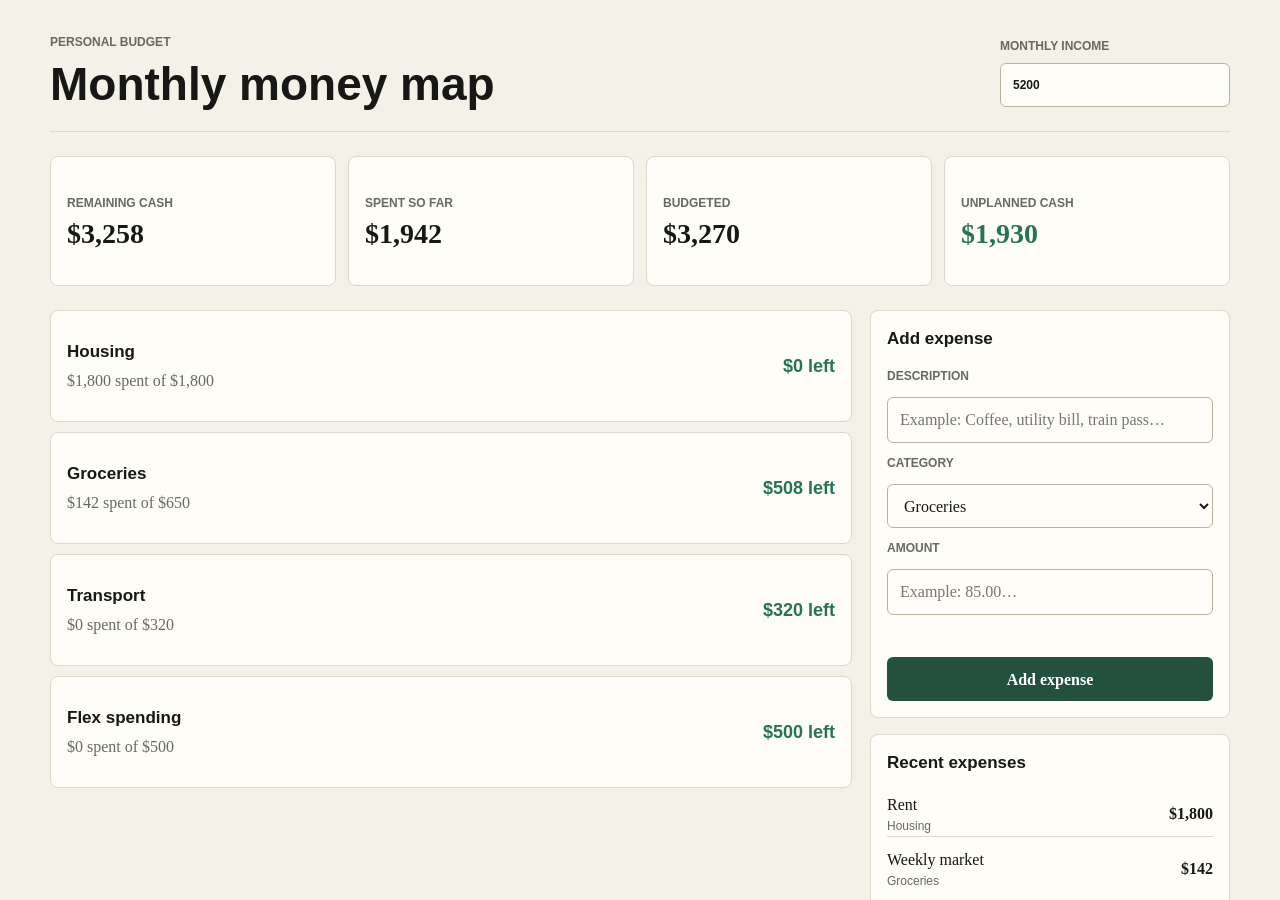
budget tracker › shows an over-budget category
Type "Dinner party stock-up" into the field labelled "Description" at (1050, 420), box [887,397,1213,443]
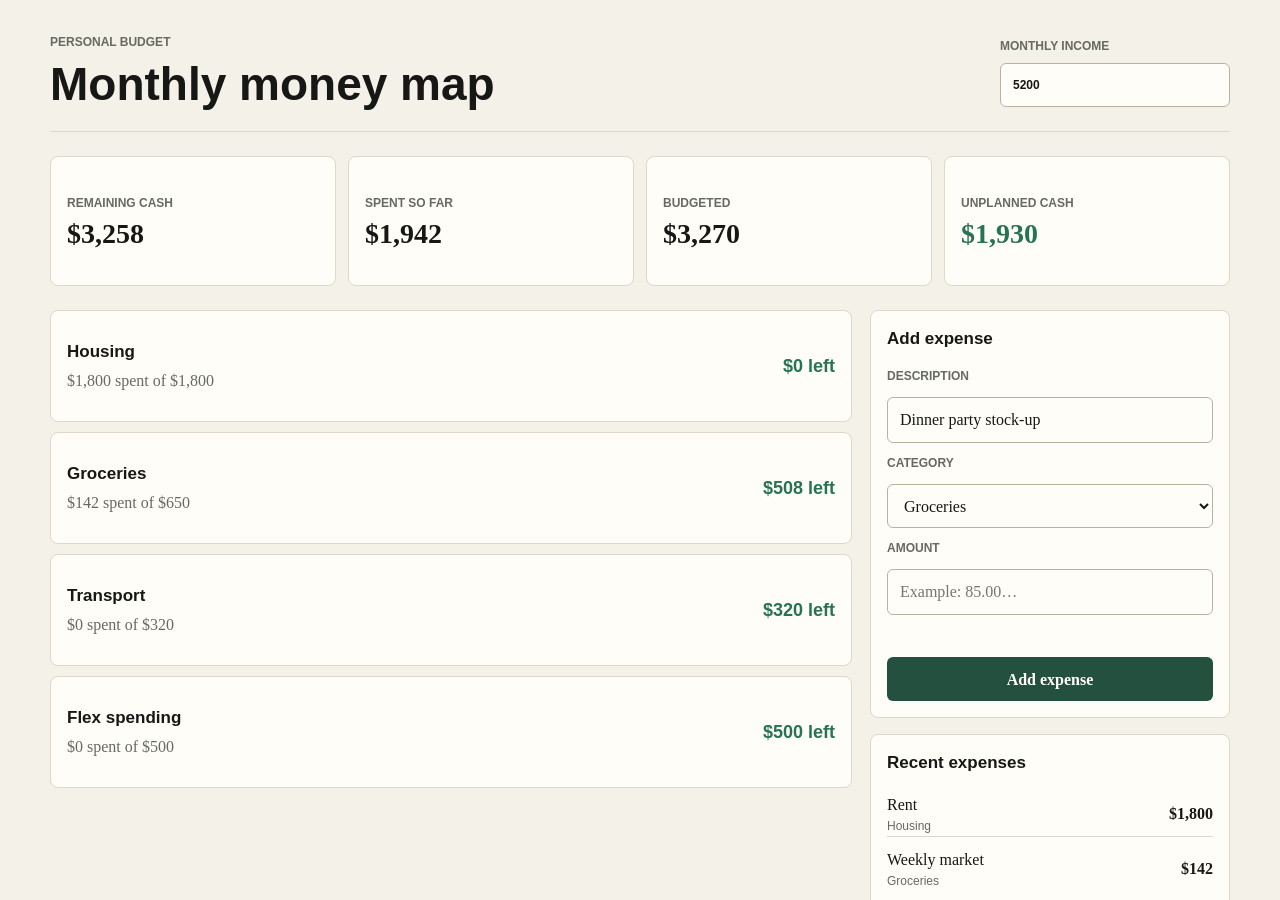
Select "Groceries" in the dropdown labelled "Category" at (1050, 506), box [887,484,1213,528]
Type "600" into the number field labelled "Amount" at (1050, 592), box [887,569,1213,615]
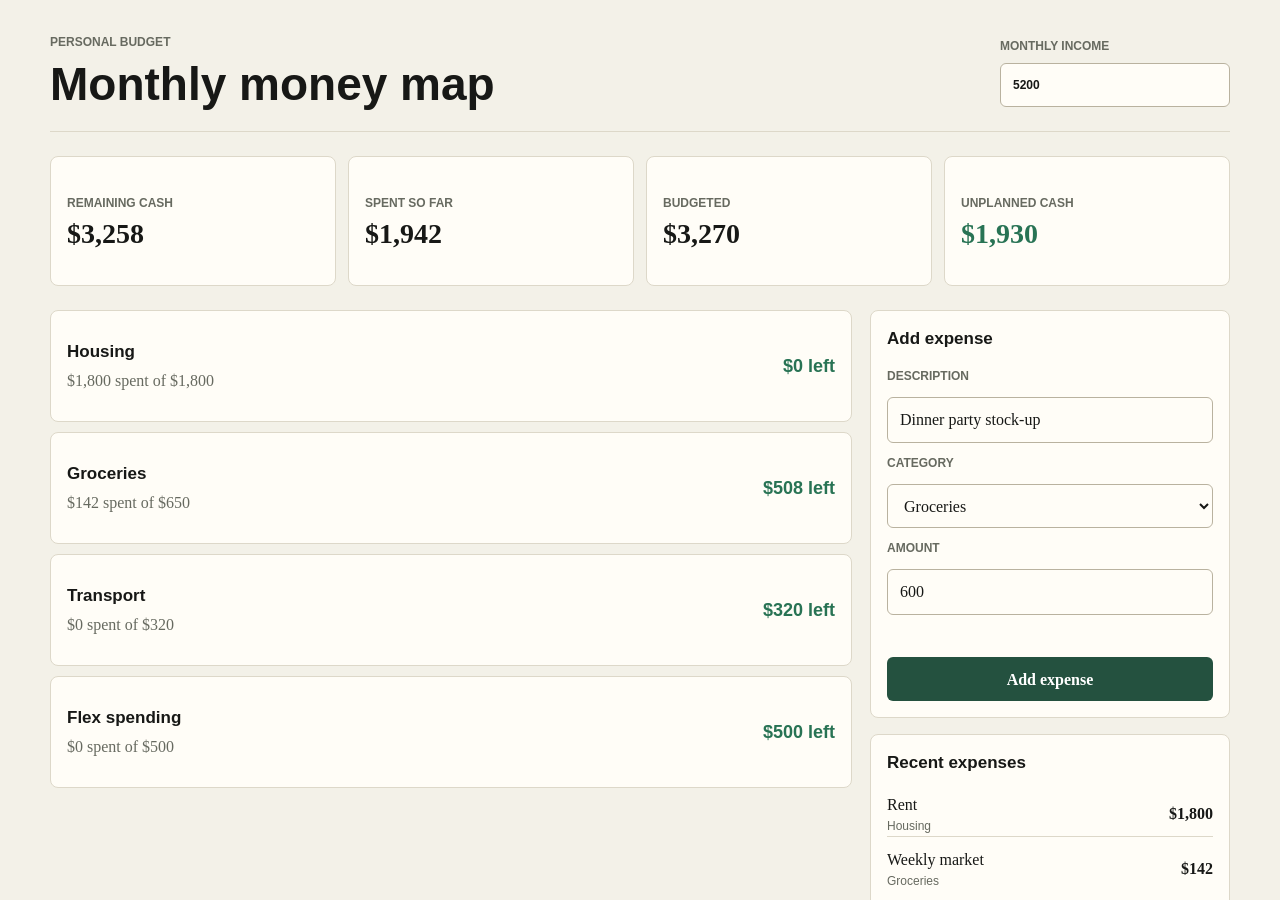
Click the button "Add expense" at (1050, 679), box [887,657,1213,701]
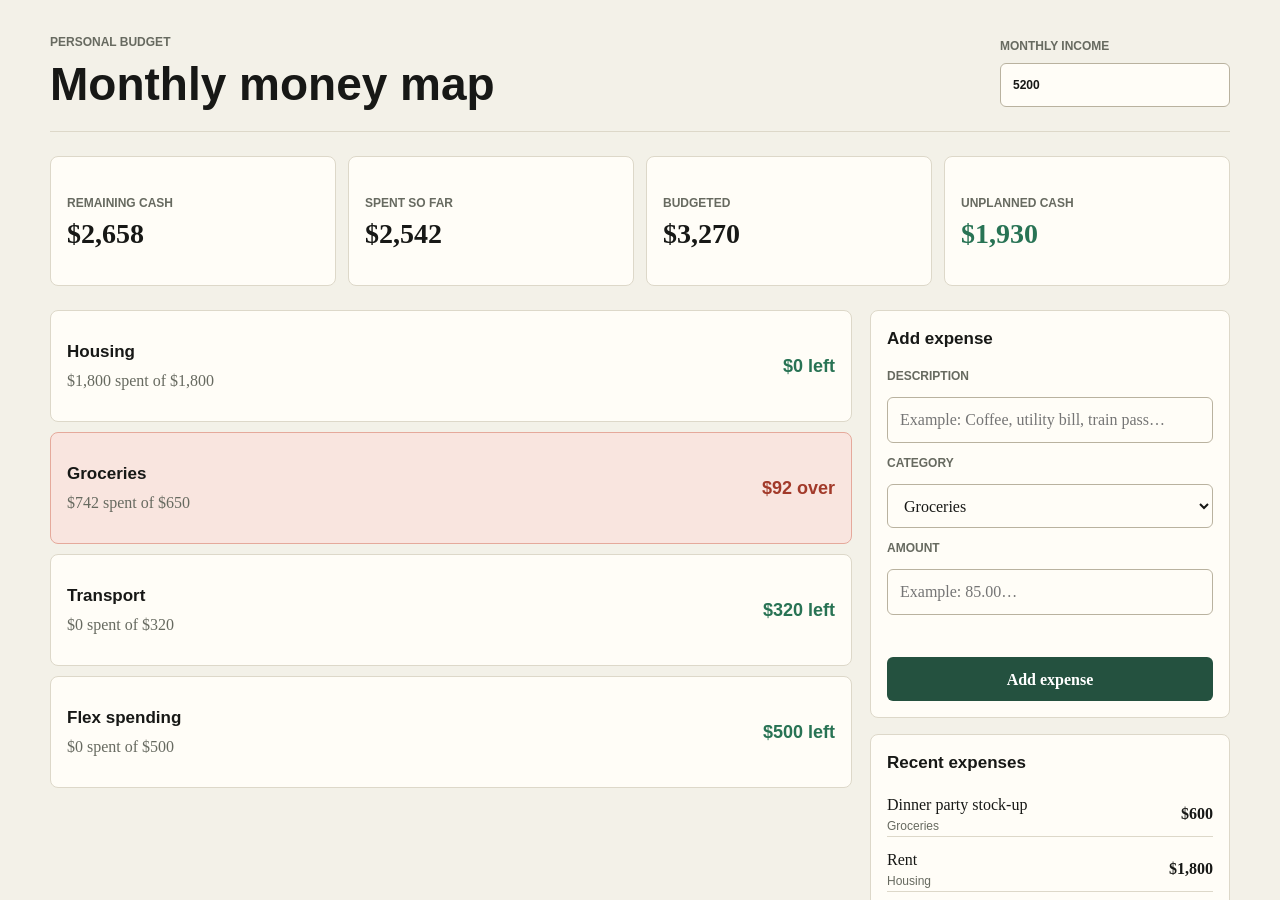
Expected: the text "$92 over" is shown, [762,475,835,501]
